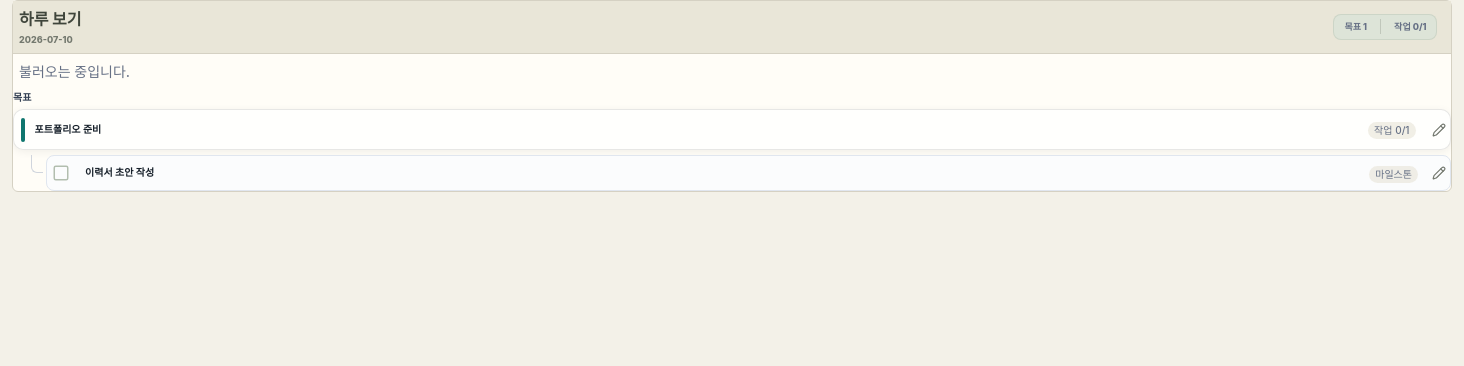
Test case: DateDetail › 로딩 중에는 수정/삭제 버튼을 비활성화한다
The width and height of the screenshot is (1464, 366).
What coordinates should you click on to do the following:
click the button "포트폴리오 준비 작업 0/1"
I would click on:
 (68, 129)
Its box is [14,110,1423,149].
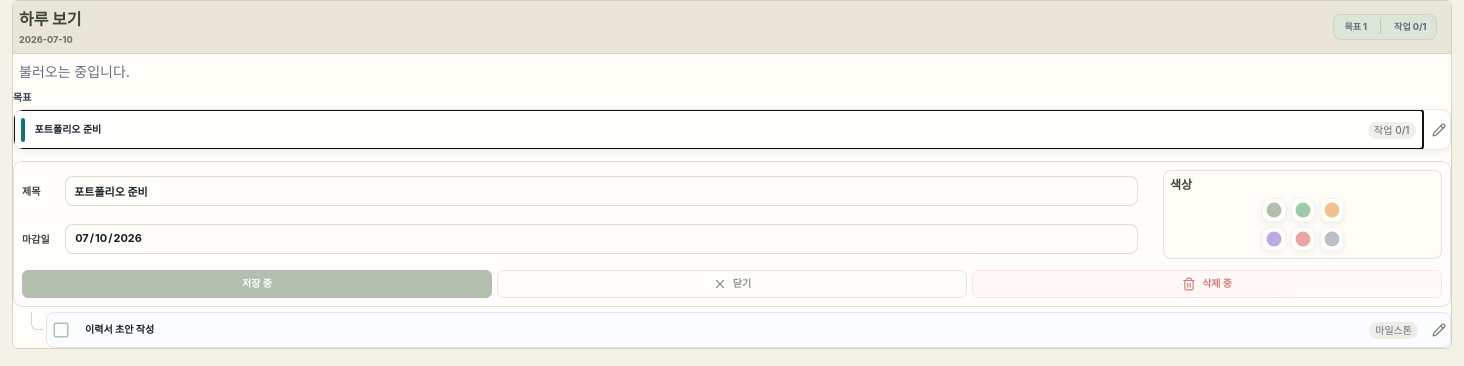
Now the button "저장 중" is disabled, box [22,270,492,298]
Now the button "삭제 중" is disabled, box [972,270,1442,298]
